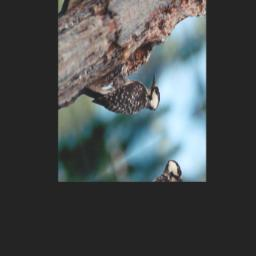Woodpecker: (75, 41, 167, 158)
